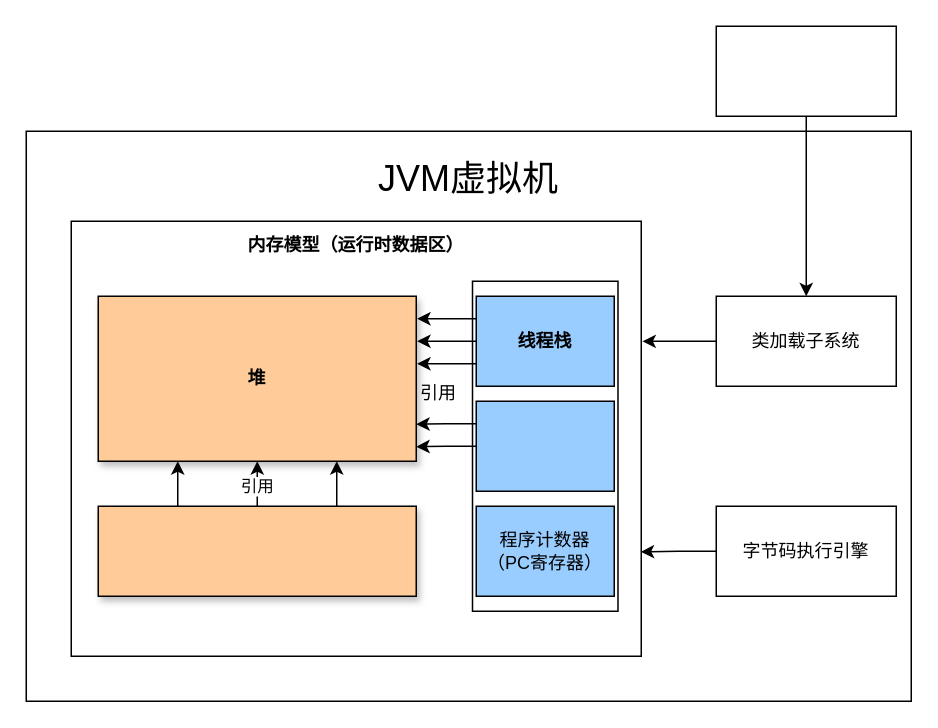
Image size: 938x728. Some labels were removed from this diagram. Here are the shapes that lost their labels. From the top down, the centre of each, then its label:
point 805,70: java Math.class
point 544,445: 本地方法栈
point 258,553: 方法区（元空间）
